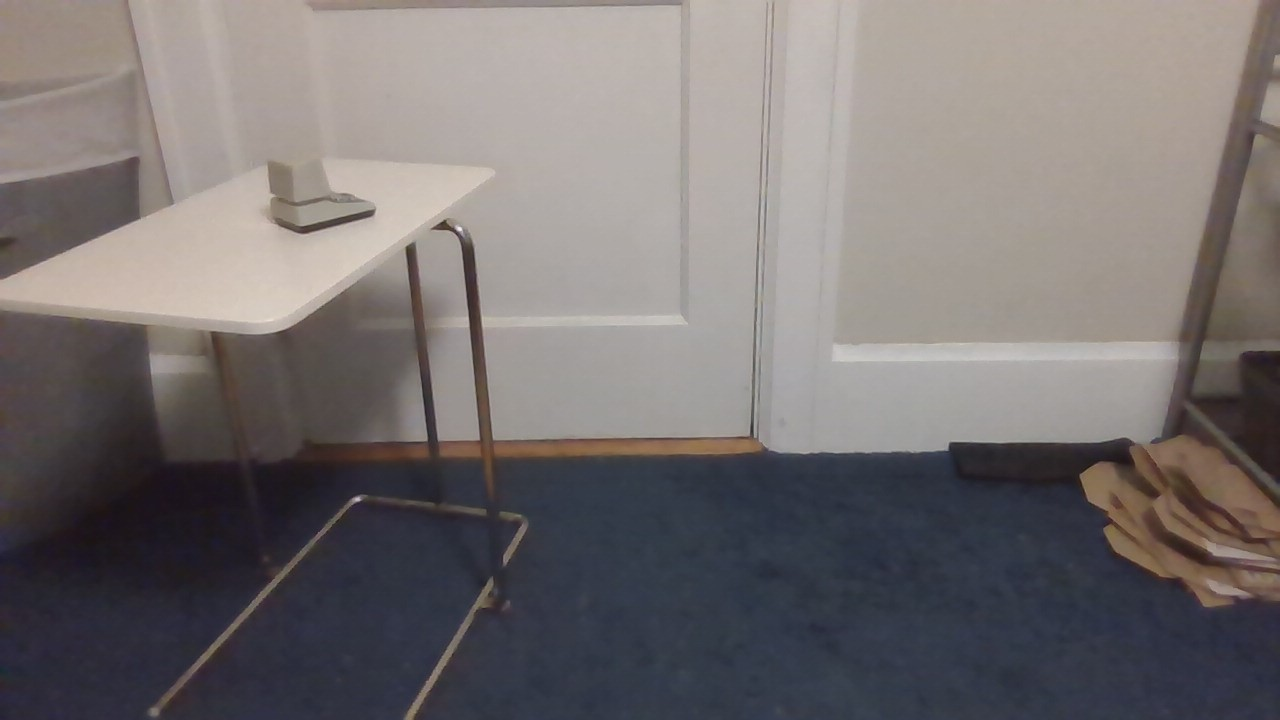Toy: (254, 145, 394, 240)
